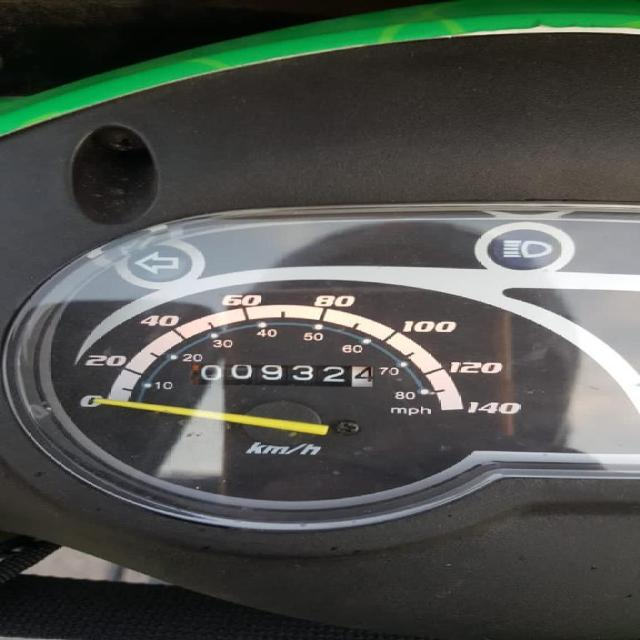odometer: (184, 360, 378, 390)
